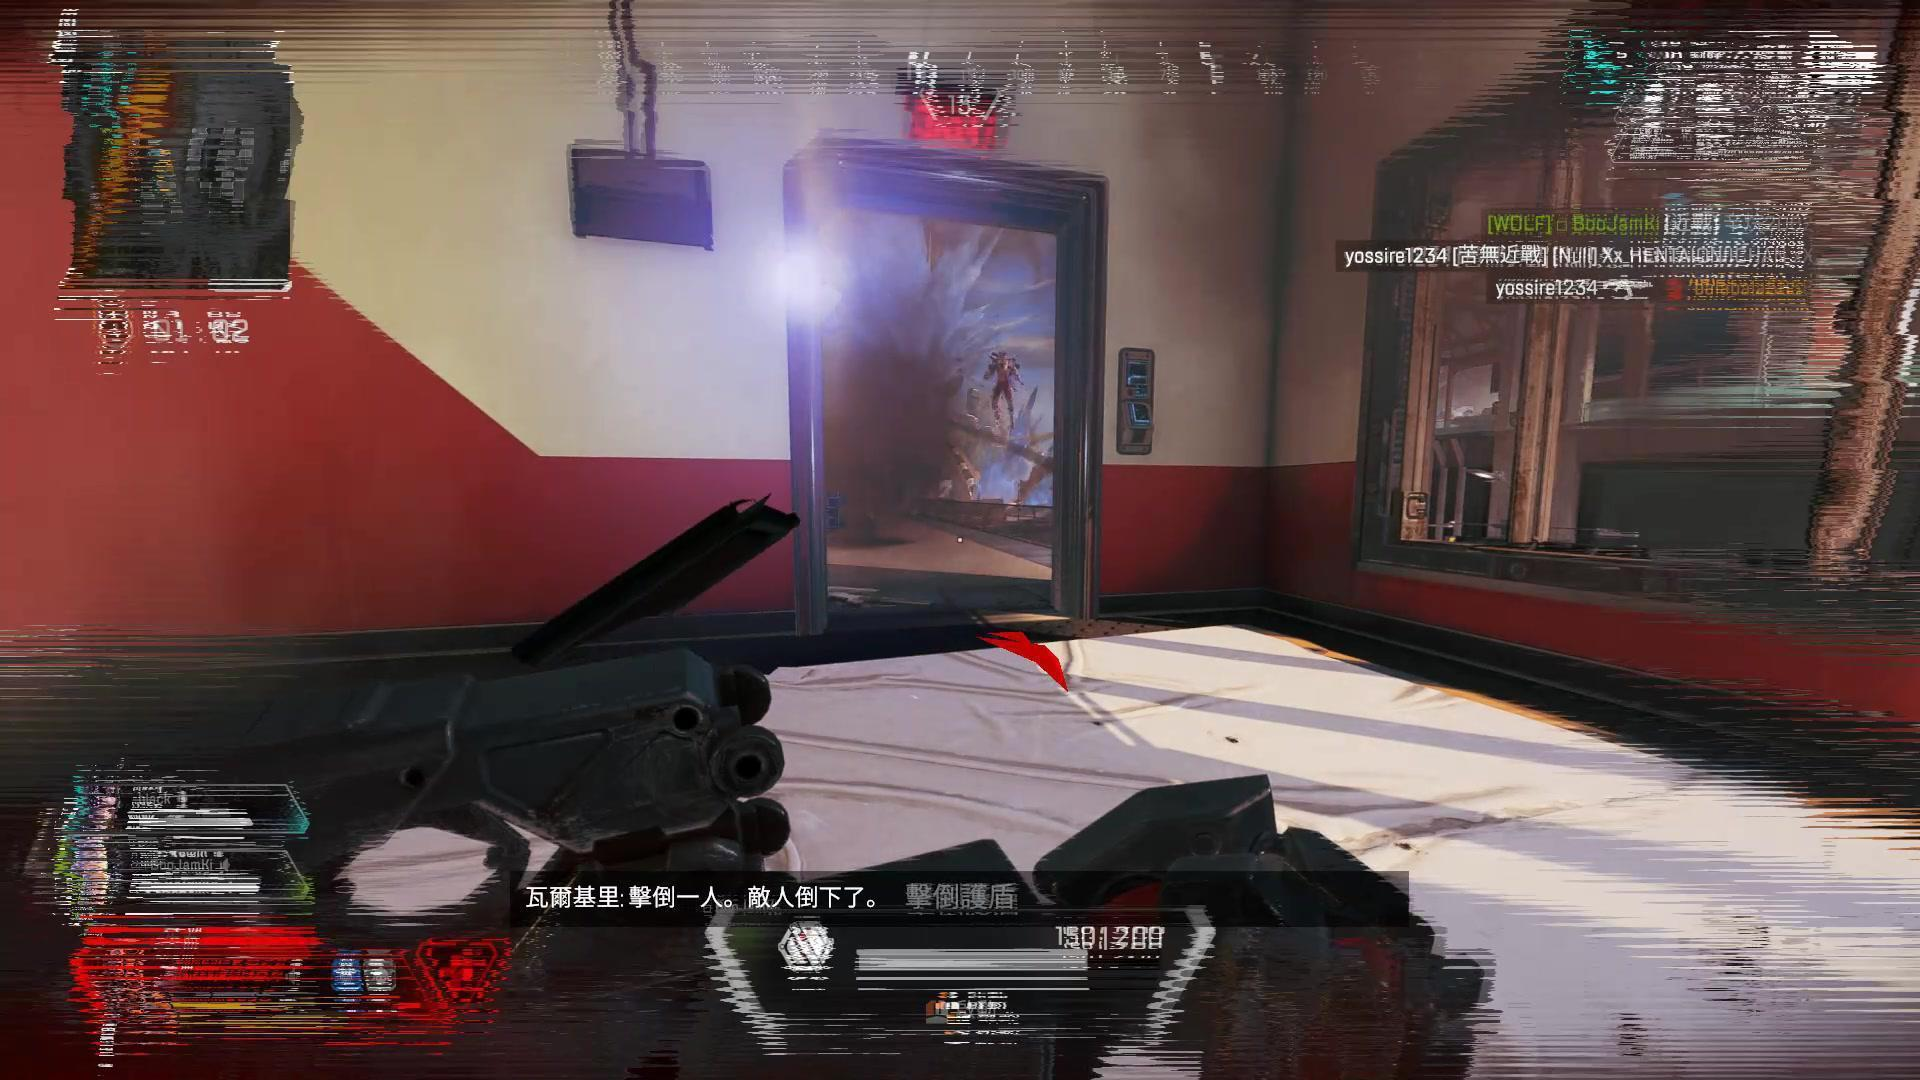avatar: (979, 346, 1025, 434)
